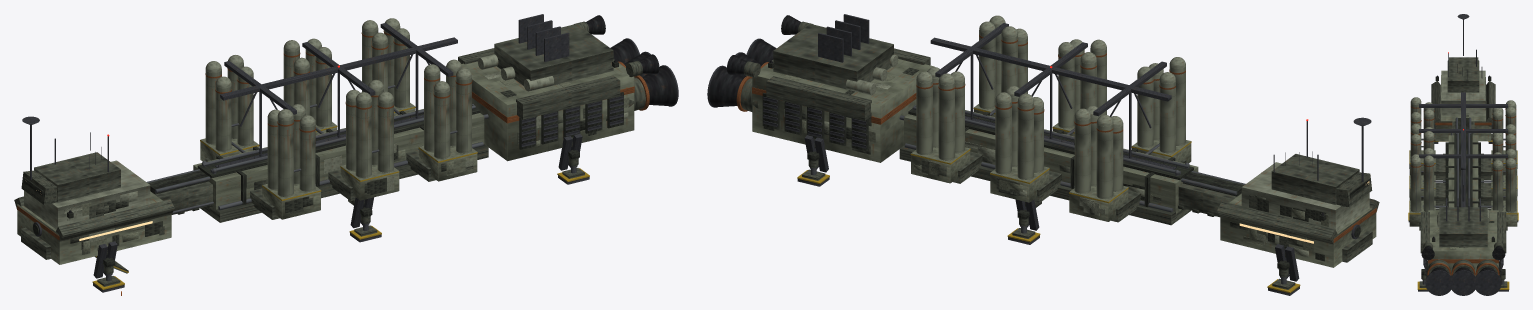
File: solace-hauler.baked.glb
3 views of the same model, side by side, from view 1: azimuth 30°, elevation 25°; view 2: azimuth 150°, elevation 25°; view 3: azimuth 270°, elevation 25° (orthographic). The views are drawn at different scales.
Visible parts, largest first — view 1: solace.001, gear; view 2: solace.001, gear; view 3: gear, solace.001.
Part boxes in pixels (box(x1,y1,x2,y2)): solace.001: box(17, 15, 676, 295); gear: box(14, 14, 678, 292); solace.001: box(709, 15, 1376, 267); gear: box(707, 14, 1379, 295); gear: box(1408, 14, 1518, 295); solace.001: box(1409, 52, 1517, 276).
Size of the model in its own units: 256 by 63.31 by 59.2.
15 materials, 11 textured.
